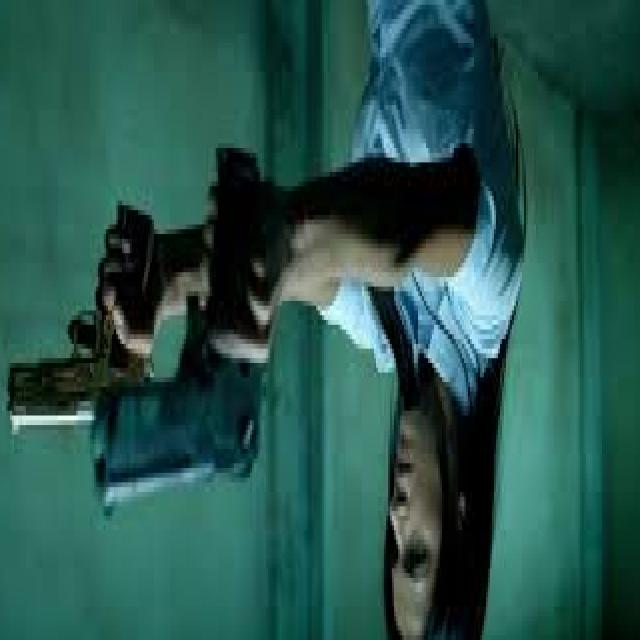gun: (97, 113, 302, 540), (0, 196, 168, 492)
